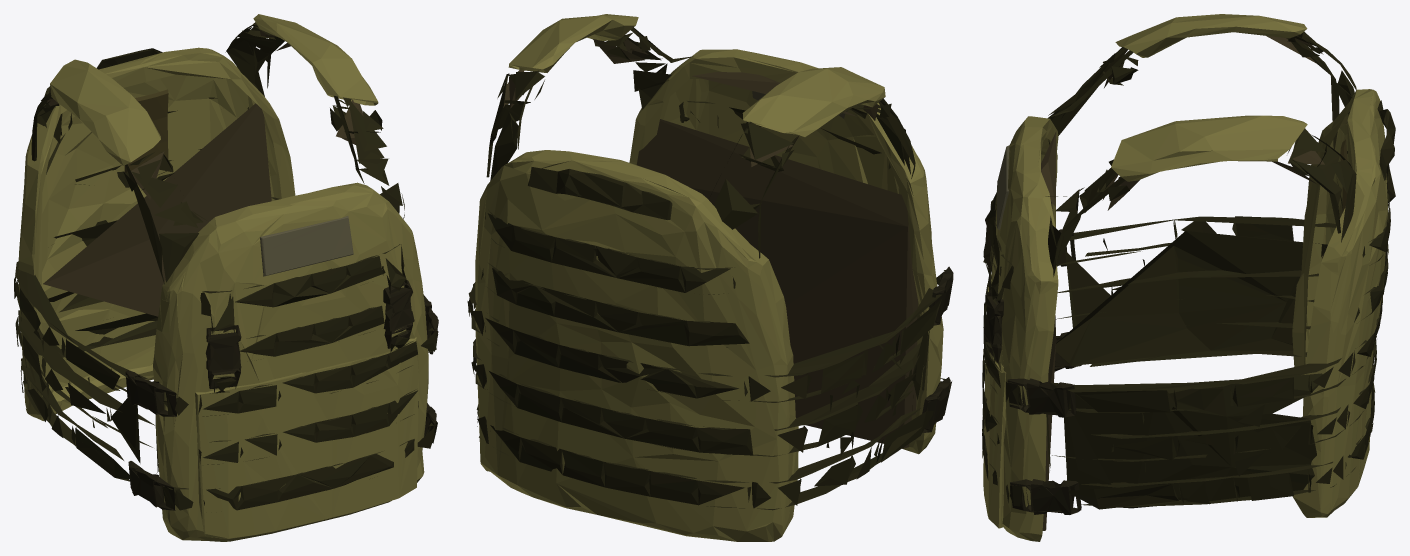
File: PlateCarrier.obj
The picture shows the model from 3 angles, left to right: view 1: azimuth 30°, elevation 25°; view 2: azimuth 150°, elevation 25°; view 3: azimuth 270°, elevation 25°; orthographic projection. The views are drawn at different scales.
Visible parts, largest first — view 1: PlateCarrier_camoarmour, PlateCarrier_stapping1, PlateCarrier_mesh_padding.001, PlateCarrier_plastictan, PlateCarrier_velcrogreen, PlateCarrier_ziptan; view 2: PlateCarrier_camoarmour, PlateCarrier_stapping1, PlateCarrier_mesh_padding.001, PlateCarrier_plastictan; view 3: PlateCarrier_stapping1, PlateCarrier_camoarmour, PlateCarrier_plastictan, PlateCarrier_mesh_padding.001, PlateCarrier_velcrogreen.
Boxes of the visible parts, x1,y1,x2,y2 form: PlateCarrier_camoarmour: (18,14,428,541); PlateCarrier_stapping1: (14,22,438,510); PlateCarrier_mesh_padding.001: (43,30,363,316); PlateCarrier_plastictan: (125,280,438,510); PlateCarrier_velcrogreen: (260,216,353,276); PlateCarrier_ziptan: (124,89,168,172); PlateCarrier_camoarmour: (475,14,943,541); PlateCarrier_stapping1: (467,27,951,510); PlateCarrier_mesh_padding.001: (503,39,917,448); PlateCarrier_plastictan: (922,266,953,432); PlateCarrier_stapping1: (982,31,1395,509); PlateCarrier_camoarmour: (983,14,1387,541); PlateCarrier_plastictan: (983,209,1081,514); PlateCarrier_mesh_padding.001: (1041,36,1324,530); PlateCarrier_velcrogreen: (997,145,1009,230).
Bounding box in the file's own units: 0.4176 × 0.4683 × 0.4233.
